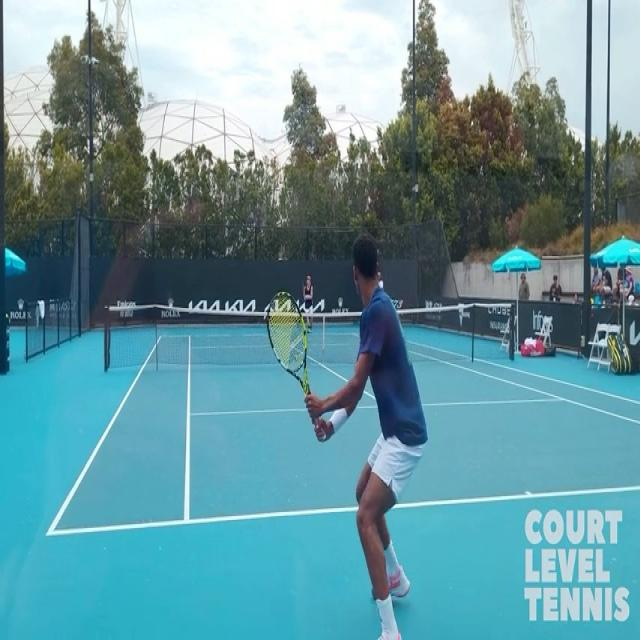backhand-ready: (266, 243, 466, 632)
